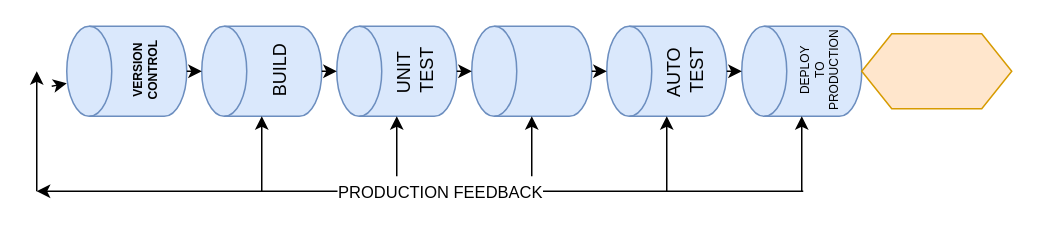
Some shapes in this 1038 by 230 pixel diagram are drawn without their labels. Here are the shapes that lost their labels. From the top down, the box of each, then its label:
(470, 25, 592, 116): DEPLOY
(860, 32, 1012, 109): MEASURE + VALIDATE
